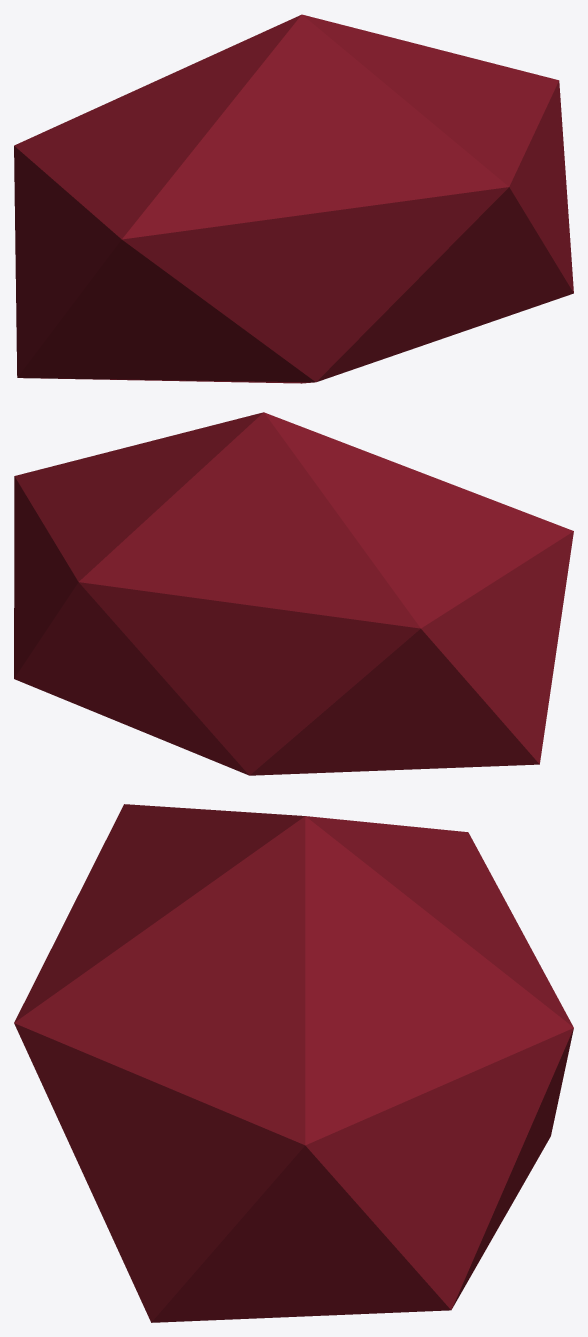
File: w3d_item_berries_s.glb
3 renders of one model, top to bottom at view 1: azimuth 30°, elevation 25°; view 2: azimuth 150°, elevation 25°; view 3: azimuth 270°, elevation 25°, orthographic. The views are drawn at different scales.
Parts seen in each view (by area): view 1: item_017_berries_s; view 2: item_017_berries_s; view 3: item_017_berries_s.
Part boxes in pixels (x1,y1,x2,y2): item_017_berries_s: [14, 14, 573, 383]; item_017_berries_s: [14, 412, 573, 775]; item_017_berries_s: [14, 804, 573, 1322].
Size of the model in its own units: 0.3154 by 0.2052 by 0.2178.
